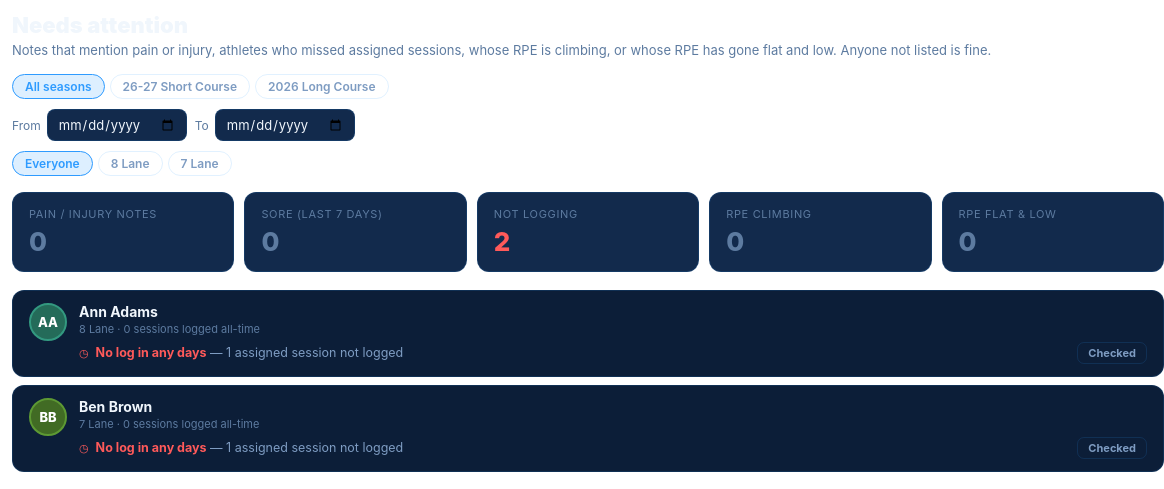
Test case: season and group filters narrow together
This screenshot has width=1164, height=489.
Click the button "26-27 Short Course".
click(180, 86)  # box top-left (110, 74), bottom-right (250, 99)
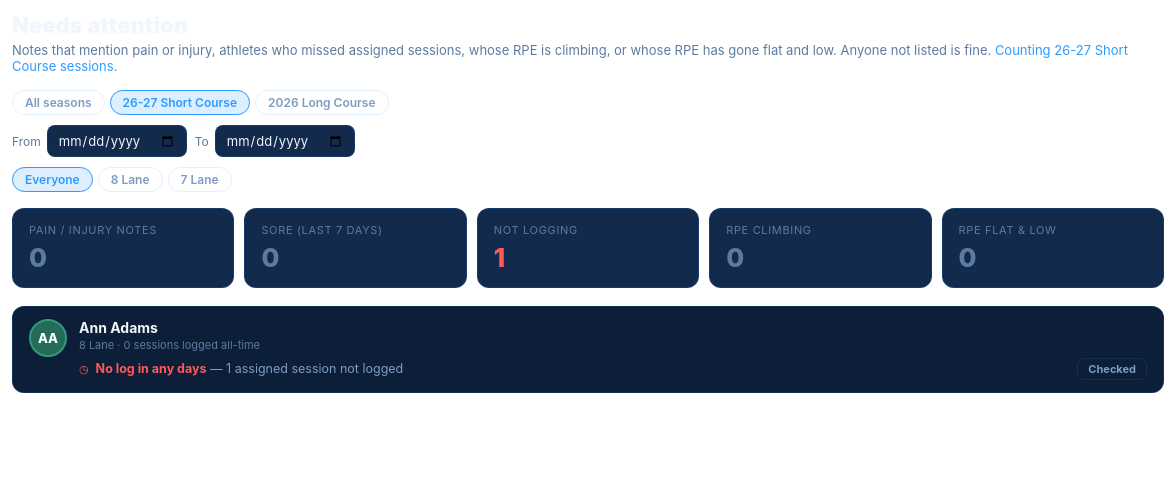
Click the button "7 Lane".
click(200, 180)  # box top-left (168, 167), bottom-right (232, 192)
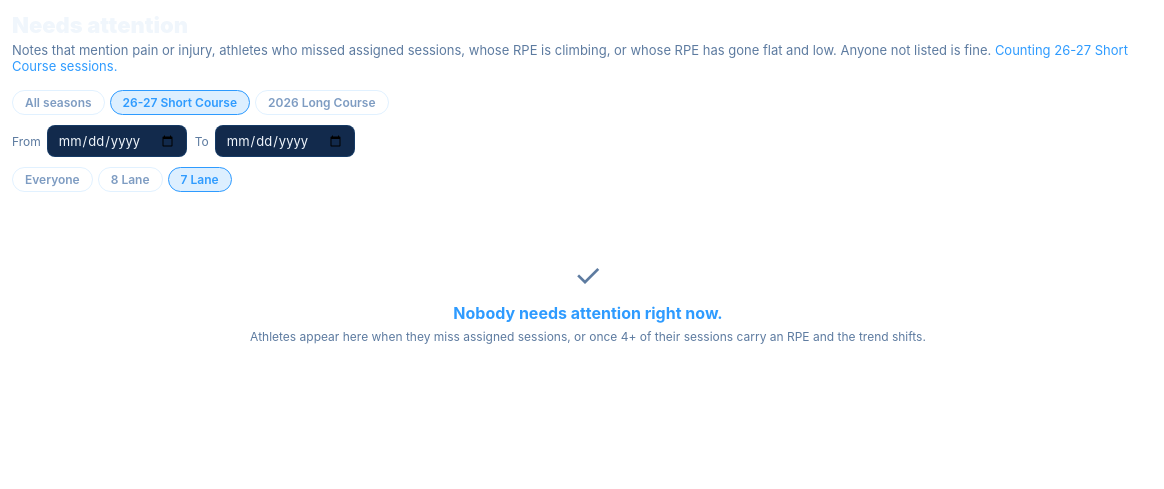
Expected: the text "Nobody needs attention right now." is shown, top-left (453, 303), bottom-right (723, 323)
